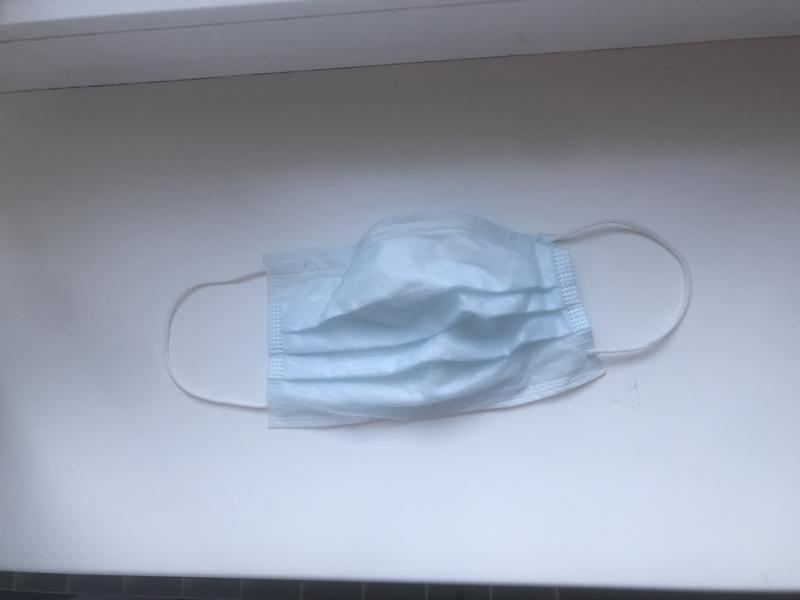medical_mask: (164, 214, 691, 413)
